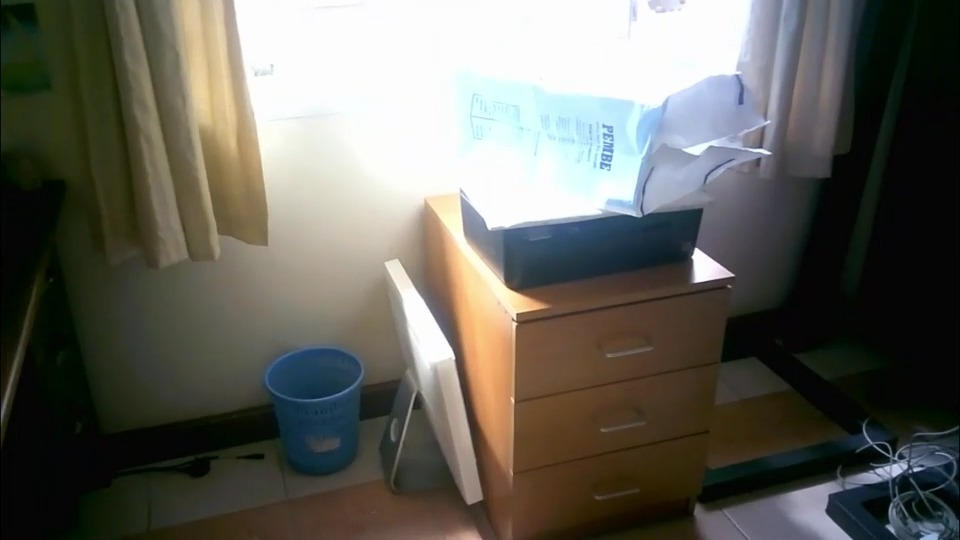wheat_flour_blue_label: (453, 59, 774, 216)
